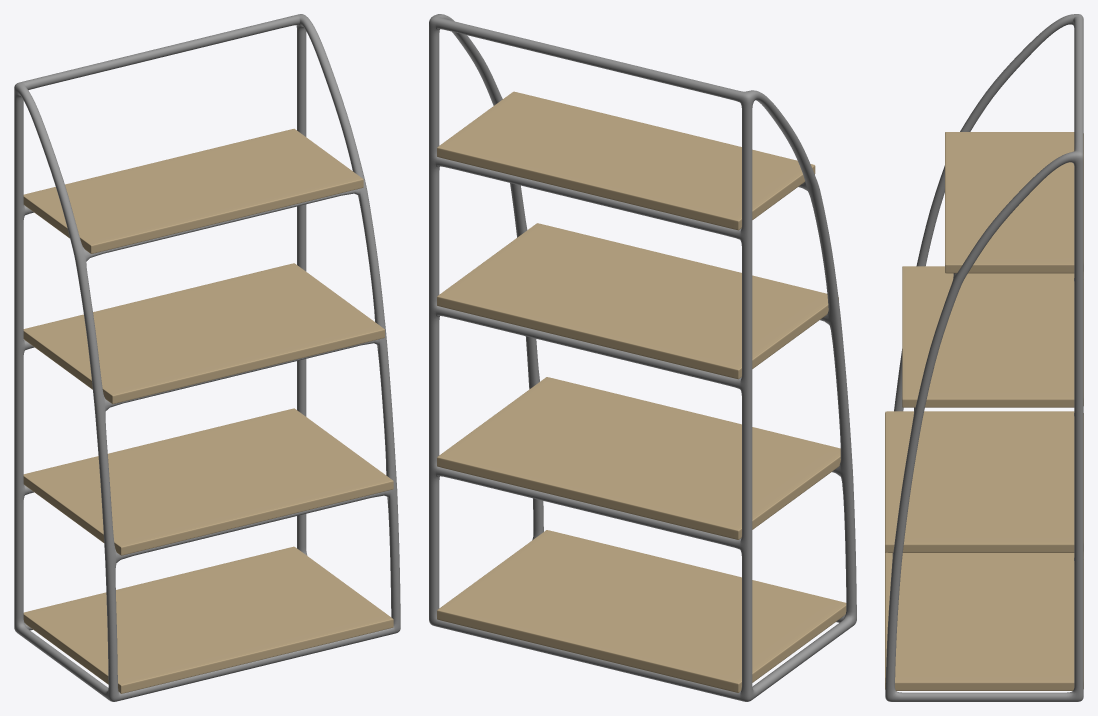
The model's file is etagere_01.fbx.
3 renders of one model, left to right at view 1: azimuth 30°, elevation 25°; view 2: azimuth 150°, elevation 25°; view 3: azimuth 270°, elevation 25°, orthographic. The views are drawn at different scales.
Parts seen in each view (by area): view 1: etagère; view 2: etagère; view 3: etagère.
Part boxes in pixels (left/top/right/bottom): etagère: left=14, top=14, right=400, bottom=701; etagère: left=429, top=14, right=856, bottom=701; etagère: left=885, top=14, right=1083, bottom=701.
Size of the model in its own units: 8.44 by 15.24 by 5.
